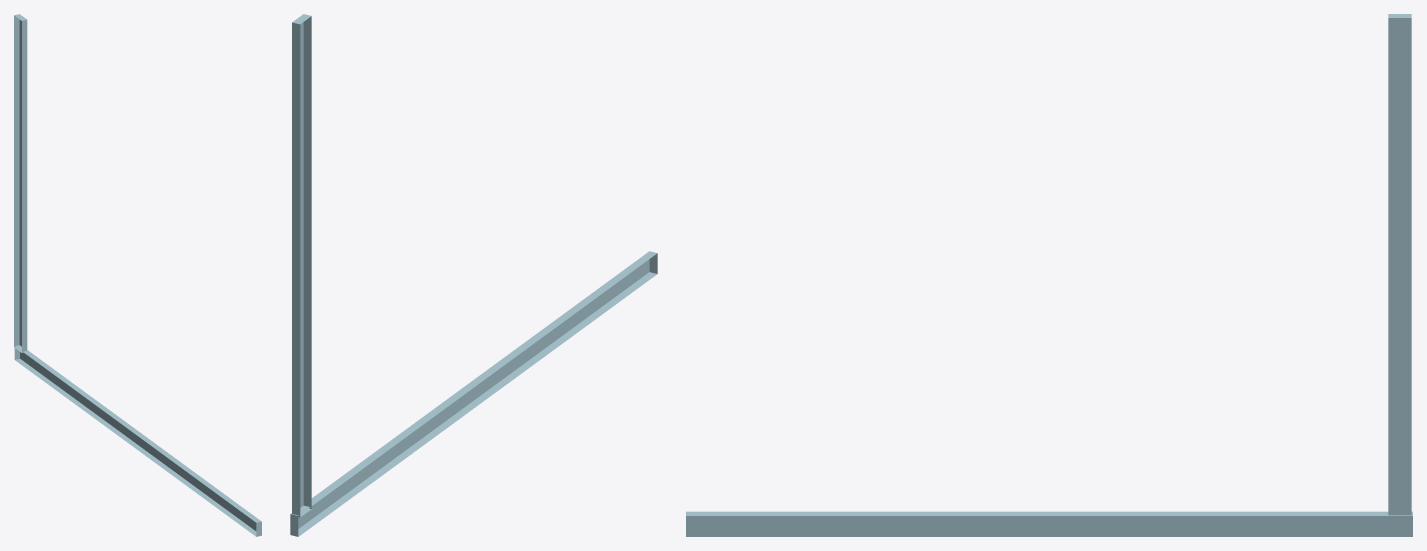
Rendered from Patio_Boards.fbx.
3 views of the same model, side by side, from view 1: azimuth 30°, elevation 25°; view 2: azimuth 150°, elevation 25°; view 3: azimuth 270°, elevation 25° (orthographic). The views are drawn at different scales.
Parts seen in each view (by area): view 1: Patio_Boards; view 2: Patio_Boards; view 3: Patio_Boards.
Boxes of the visible parts, x1=… form: Patio_Boards: x1=14, y1=14, x2=261, y2=536; Patio_Boards: x1=290, y1=14, x2=657, y2=536; Patio_Boards: x1=686, y1=14, x2=1412, y2=536.
Size of the model in its own units: 7.54 by 393 by 500.
